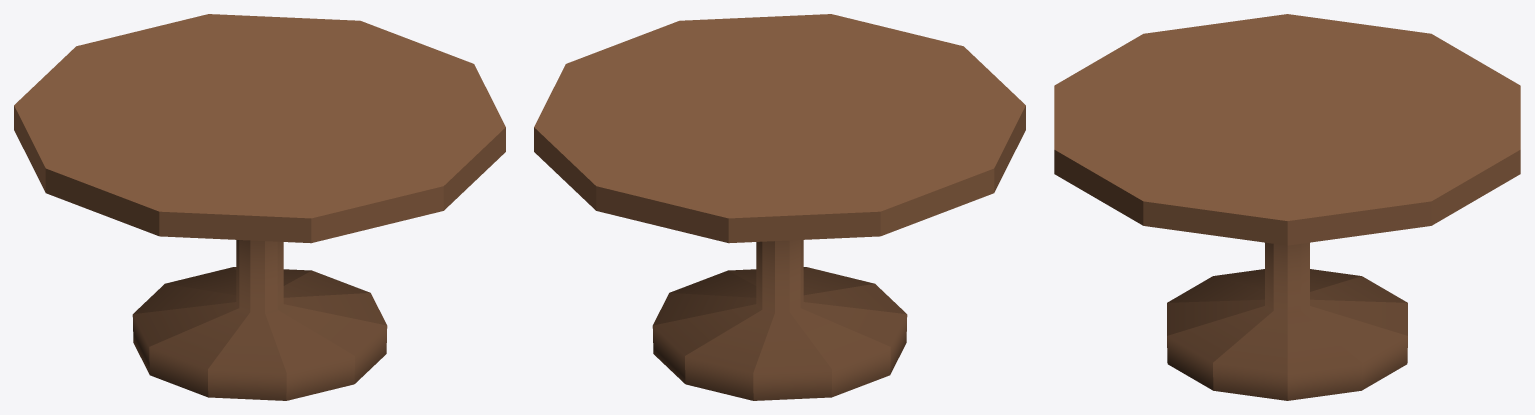
The model's file is table.fbx.
3 renders of one model, left to right at view 1: azimuth 30°, elevation 25°; view 2: azimuth 150°, elevation 25°; view 3: azimuth 270°, elevation 25°, orthographic.
Visible parts, largest first — view 1: table; view 2: table; view 3: table.
Boxes of the visible parts, x1,y1,x2,y2 form: table: (14,14,505,400); table: (534,14,1025,400); table: (1054,14,1520,400).
Bounding box in the file's own units: 247 × 128 × 235.
